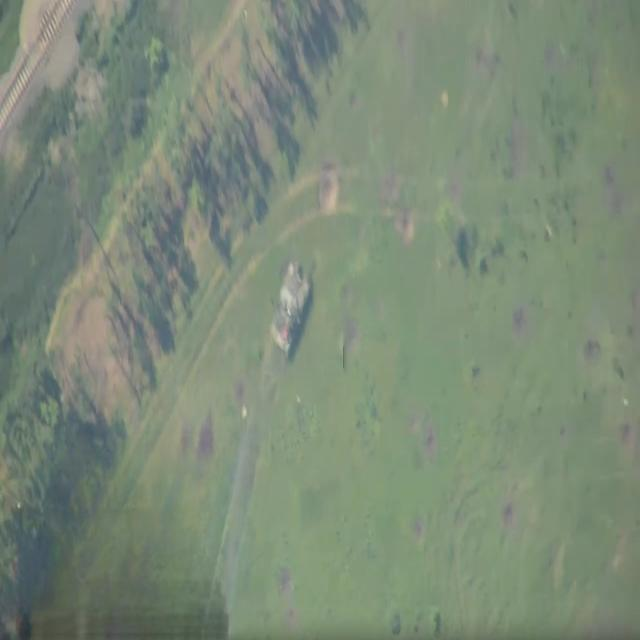MBT: (269, 234, 315, 366)
